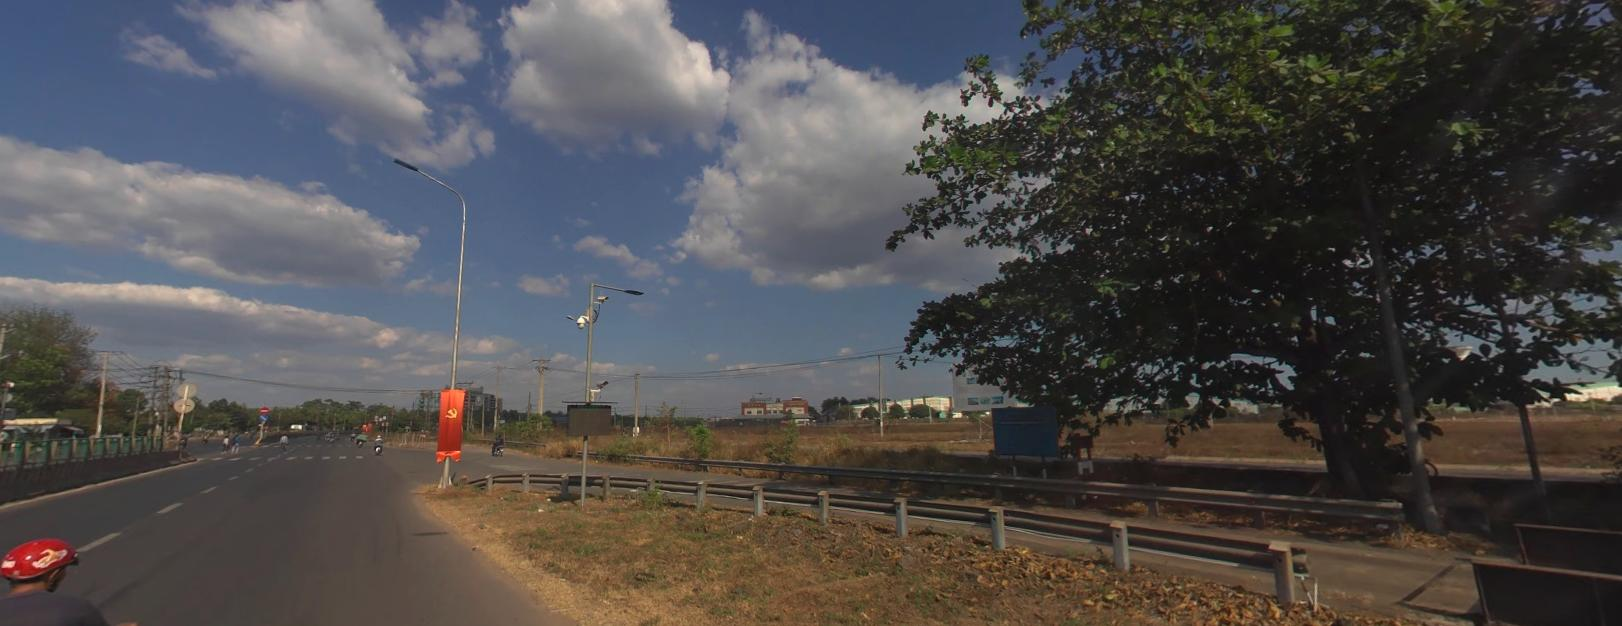Cam nguoc chieu: (259, 405, 268, 412)
Hieu lenh: (259, 412, 268, 419)
